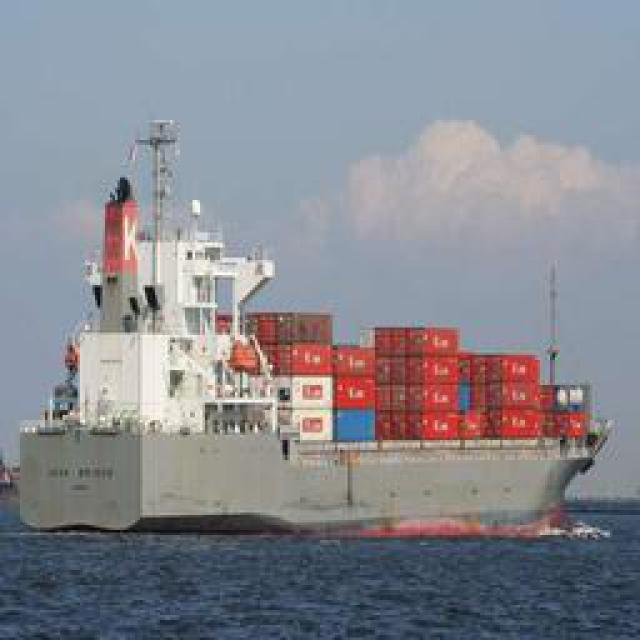Ship: (27, 122, 610, 542)
